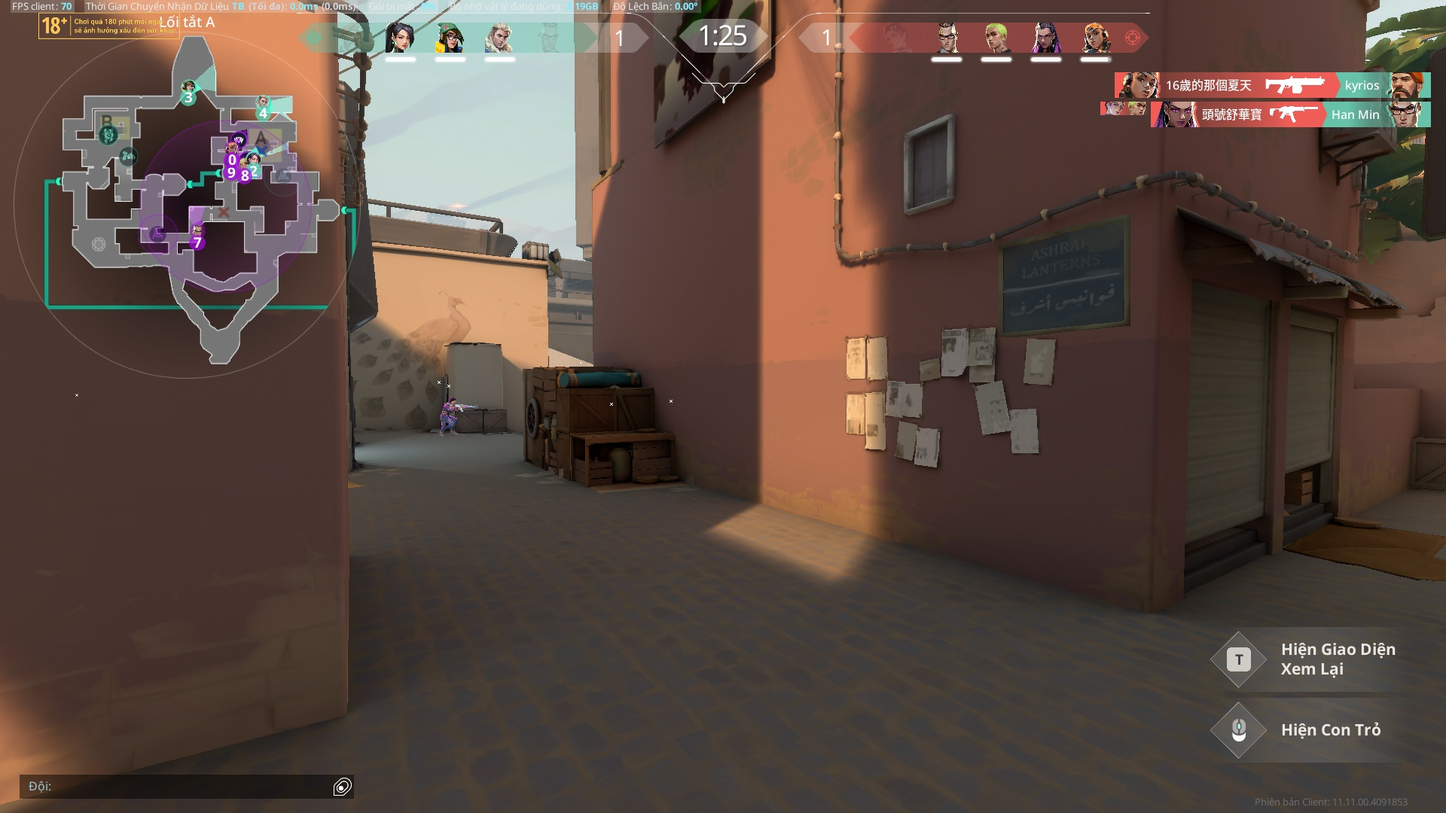body: (441, 402, 453, 415)
head: (449, 397, 456, 404)
